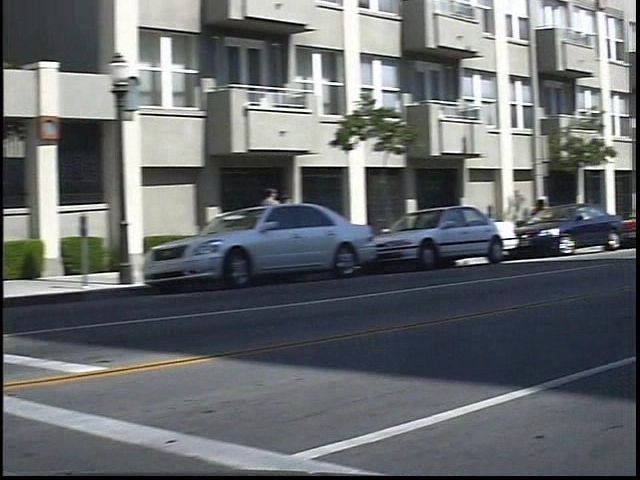person: (273, 183, 297, 265), (292, 191, 312, 254)
